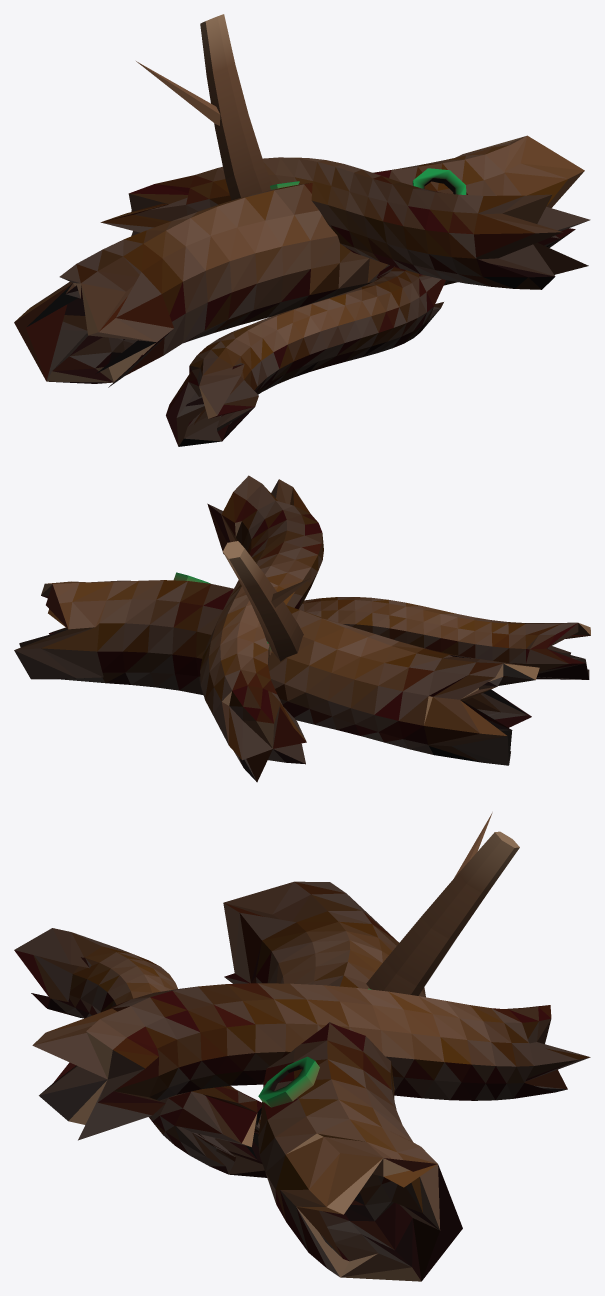
The model's file is pohon_tumbang_logjam_rainforest_677395.glb.
3 renders of one model, top to bottom at view 1: azimuth 30°, elevation 25°; view 2: azimuth 150°, elevation 25°; view 3: azimuth 270°, elevation 25°, orthographic. The views are drawn at different scales.
Visible parts, largest first — view 1: Tumpukan_Kayu_Hanyut; view 2: Tumpukan_Kayu_Hanyut; view 3: Tumpukan_Kayu_Hanyut.
Boxes of the visible parts, x1,y1,x2,y2 form: Tumpukan_Kayu_Hanyut: (14,14,590,446); Tumpukan_Kayu_Hanyut: (14,475,590,782); Tumpukan_Kayu_Hanyut: (14,812,590,1281).
Bounding box in the file's own units: 4.71 × 2.08 × 3.61.
